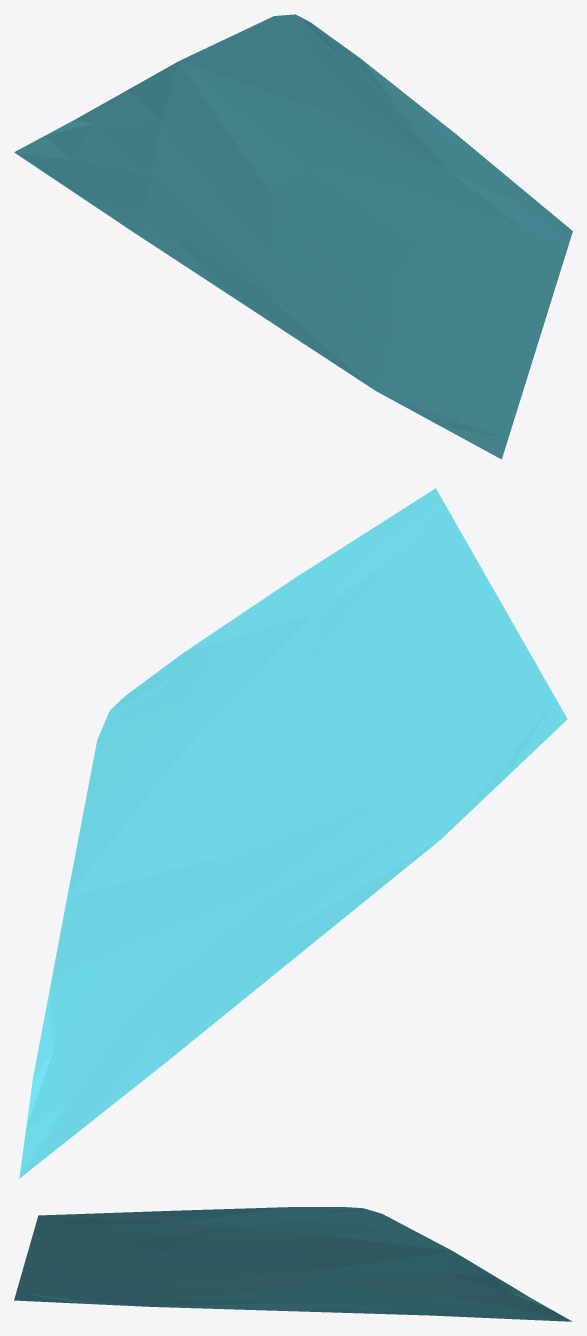
The model's file is Muscle_1_Glass_FL_Tesselated.fbx.
3 renders of one model, top to bottom at view 1: azimuth 30°, elevation 25°; view 2: azimuth 150°, elevation 25°; view 3: azimuth 270°, elevation 25°, orthographic. The views are drawn at different scales.
Parts seen in each view (by area): view 1: Muscle_1_Glass_FL_Tesselated; view 2: Muscle_1_Glass_FL_Tesselated; view 3: Muscle_1_Glass_FL_Tesselated.
Boxes of the visible parts, x1=… form: Muscle_1_Glass_FL_Tesselated: x1=14, y1=14, x2=572, y2=459; Muscle_1_Glass_FL_Tesselated: x1=19, y1=488, x2=567, y2=1178; Muscle_1_Glass_FL_Tesselated: x1=14, y1=1207, x2=572, y2=1321.
Size of the model in its own units: 13.02 by 29.07 by 102.
